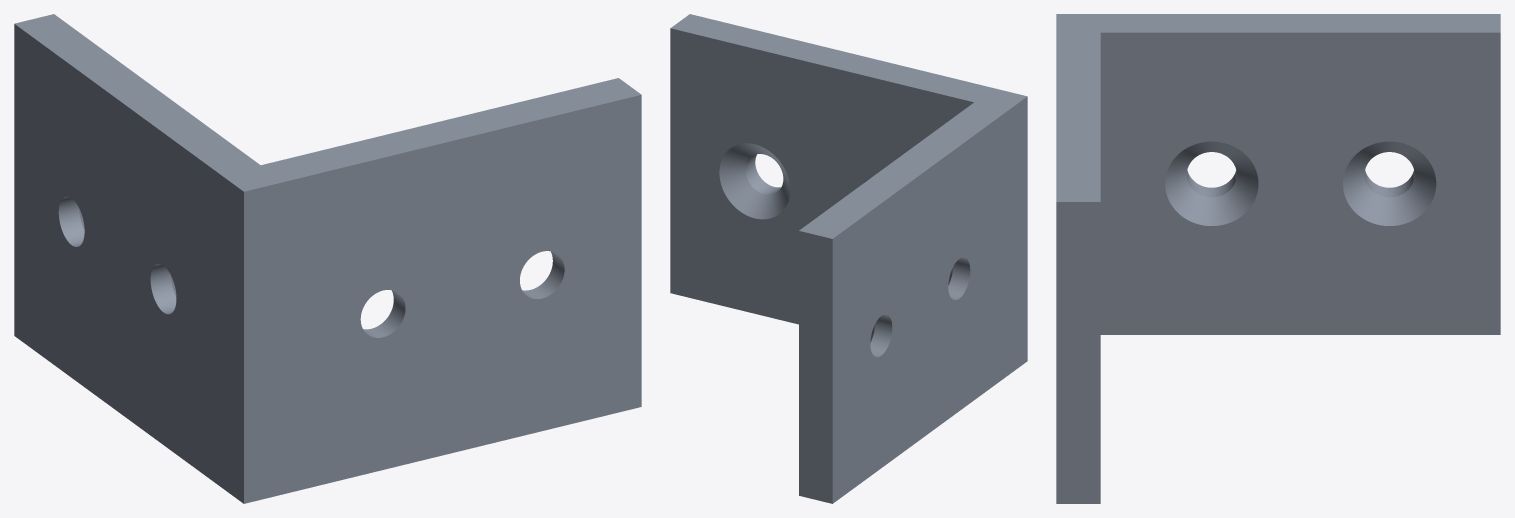
The model's file is step-2.glb.
3 renders of one model, left to right at view 1: azimuth 30°, elevation 25°; view 2: azimuth 150°, elevation 25°; view 3: azimuth 270°, elevation 25°, orthographic. The views are drawn at different scales.
Parts seen in each view (by area): view 1: face_99e99127eb9db6edd6e2, face_f769a30b4701ea59d85e, face_9a606aa5243323bfbf13, face_147180d4135c09a1fdf1, face_adf40c101b04ac4915fd, face_bd97f9682edd511c821e, face_b400ec1f4ef2d38a1665; view 2: face_f769a30b4701ea59d85e, face_d0ac4ce903f4e6a13bfd, face_9a606aa5243323bfbf13, face_e79a2301288199424551, face_c2d4bed56923391f457f, face_147180d4135c09a1fdf1, face_adf40c101b04ac4915fd, face_b400ec1f4ef2d38a1665; view 3: face_c59b11c61bc1d81f847e, face_9a606aa5243323bfbf13, face_88a4432b375be22d6a92, face_d80a9fef620c231af23e, face_9da2e519bf22c513074b, face_147180d4135c09a1fdf1, face_adf40c101b04ac4915fd.
Part boxes in pixels (box(x1,y1,x2,y2)): face_99e99127eb9db6edd6e2: box(244, 95, 641, 503); face_f769a30b4701ea59d85e: box(14, 24, 243, 503); face_9a606aa5243323bfbf13: box(14, 14, 641, 191); face_147180d4135c09a1fdf1: box(58, 196, 84, 246); face_adf40c101b04ac4915fd: box(150, 264, 176, 314); face_bd97f9682edd511c821e: box(363, 290, 405, 337); face_b400ec1f4ef2d38a1665: box(522, 251, 564, 298); face_f769a30b4701ea59d85e: box(832, 96, 1027, 503); face_d0ac4ce903f4e6a13bfd: box(670, 28, 973, 324); face_9a606aa5243323bfbf13: box(671, 14, 1026, 238); face_e79a2301288199424551: box(799, 231, 832, 503); face_c2d4bed56923391f457f: box(719, 143, 790, 219); face_147180d4135c09a1fdf1: box(870, 314, 892, 357); face_adf40c101b04ac4915fd: box(948, 257, 970, 300); face_b400ec1f4ef2d38a1665: box(745, 154, 780, 194); face_c59b11c61bc1d81f847e: box(1100, 32, 1500, 334); face_9a606aa5243323bfbf13: box(1056, 14, 1500, 201); face_88a4432b375be22d6a92: box(1056, 202, 1100, 503); face_d80a9fef620c231af23e: box(1165, 141, 1258, 225); face_9da2e519bf22c513074b: box(1343, 141, 1436, 225); face_147180d4135c09a1fdf1: box(1364, 170, 1414, 197); face_adf40c101b04ac4915fd: box(1186, 170, 1236, 197).
Size of the model in its own units: 0.04 by 0.03 by 0.04.
